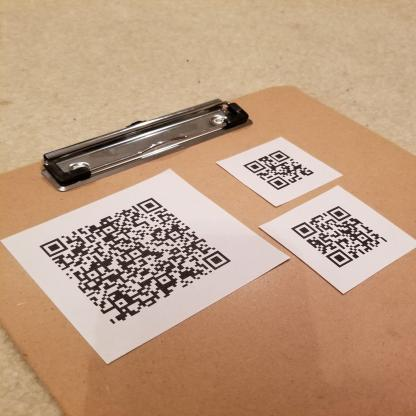qr: (38, 195, 235, 331), (289, 205, 395, 273), (241, 143, 321, 191)
